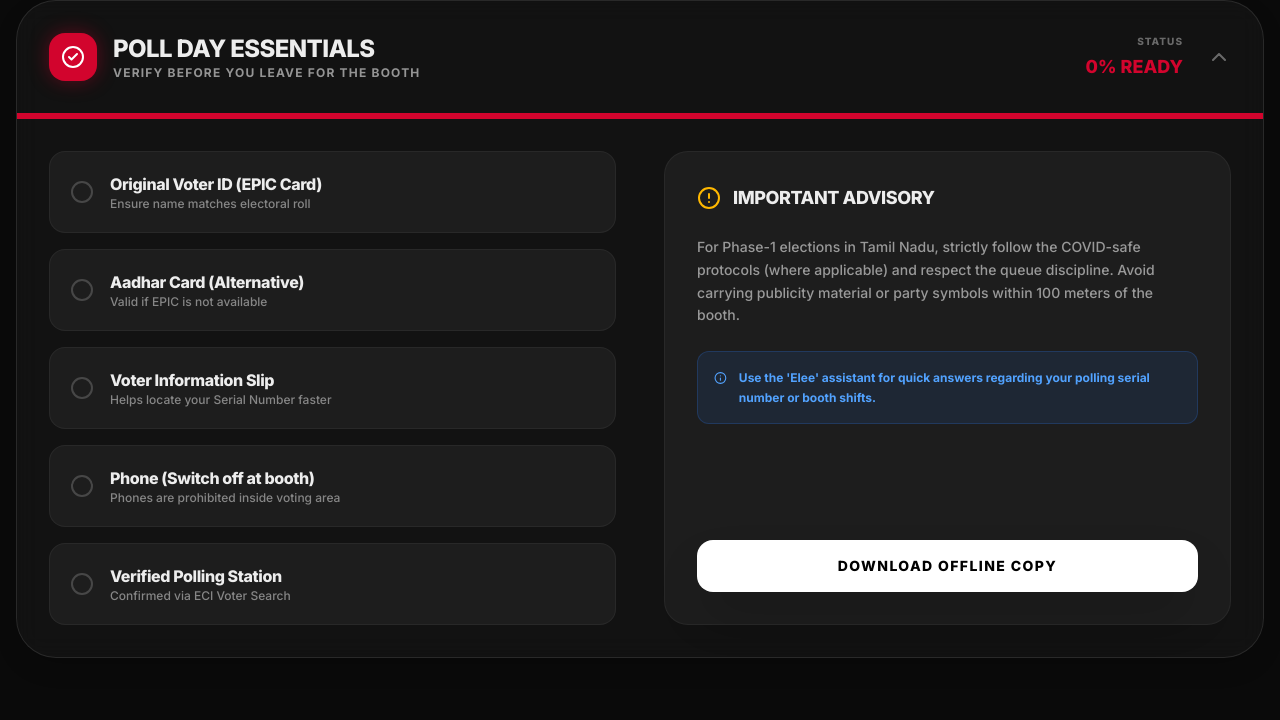
Test case: VoterChecklist › should reach 100% when all items checked
This screenshot has width=1280, height=720.
Click the button that starts with "Original Voter ID (EPIC Card)" at (216, 184), box left=49, top=151, right=616, bottom=233
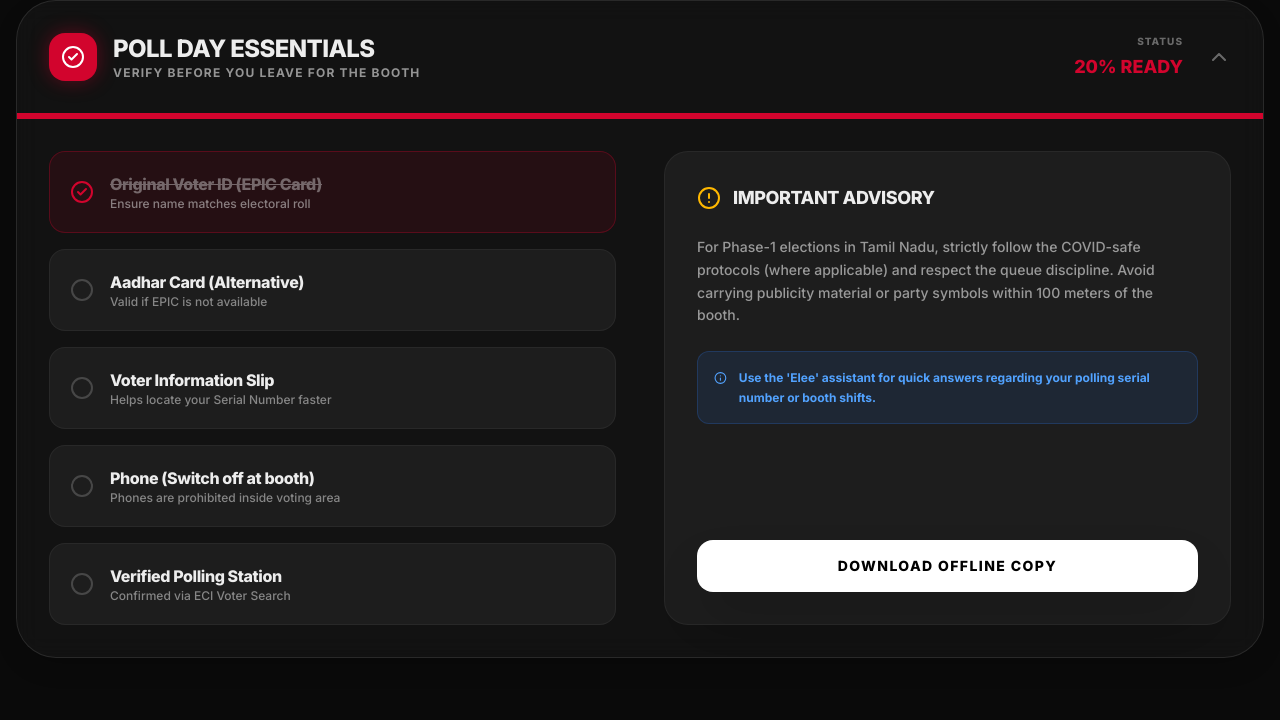
Click the button "Aadhar Card (Alternative) Valid if EPIC is not available" at (207, 282), box left=49, top=249, right=616, bottom=331
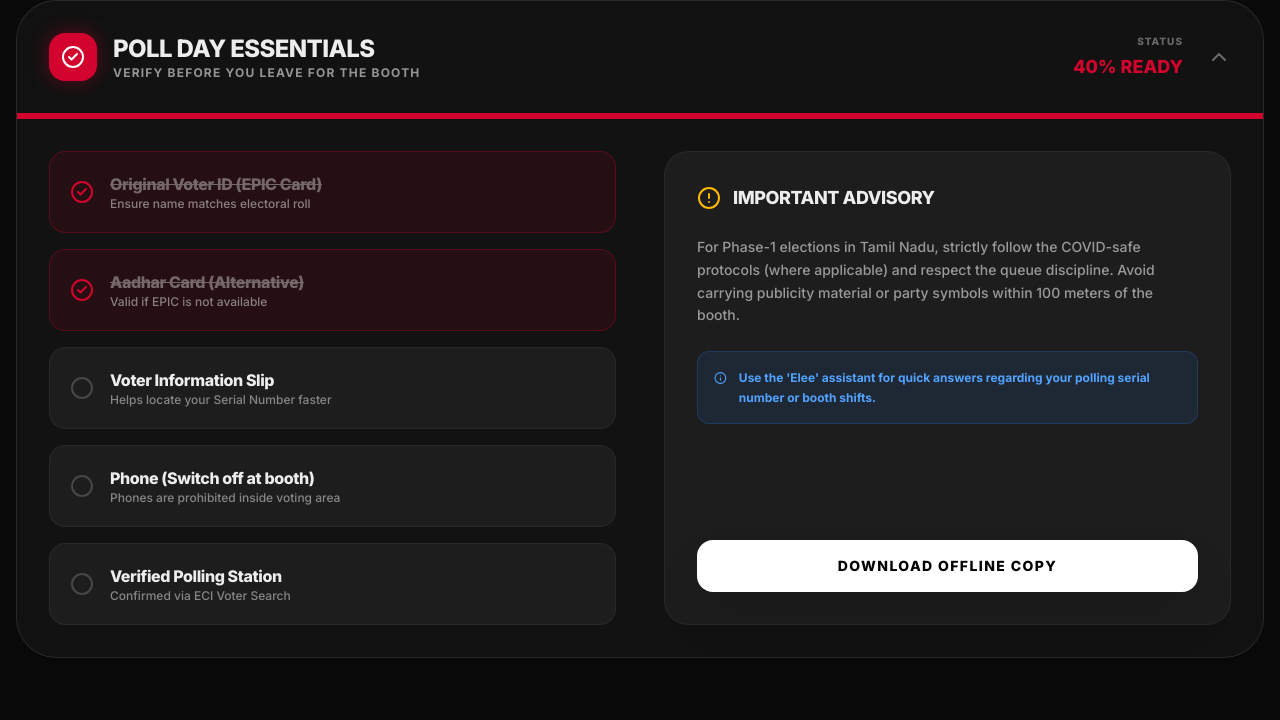
Click the button that starts with "Voter Information Slip" at (192, 380), box left=49, top=347, right=616, bottom=429
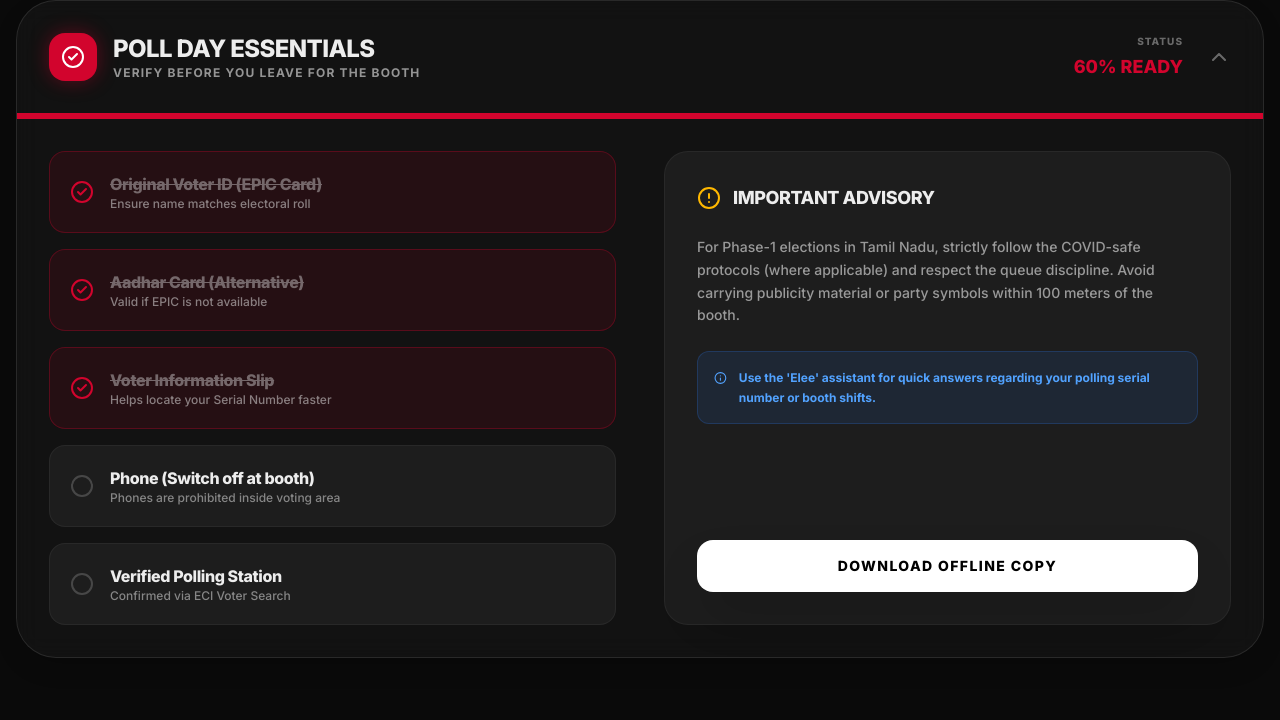
Click the button that starts with "Phone (Switch off at booth)" at (212, 478), box left=49, top=445, right=616, bottom=527
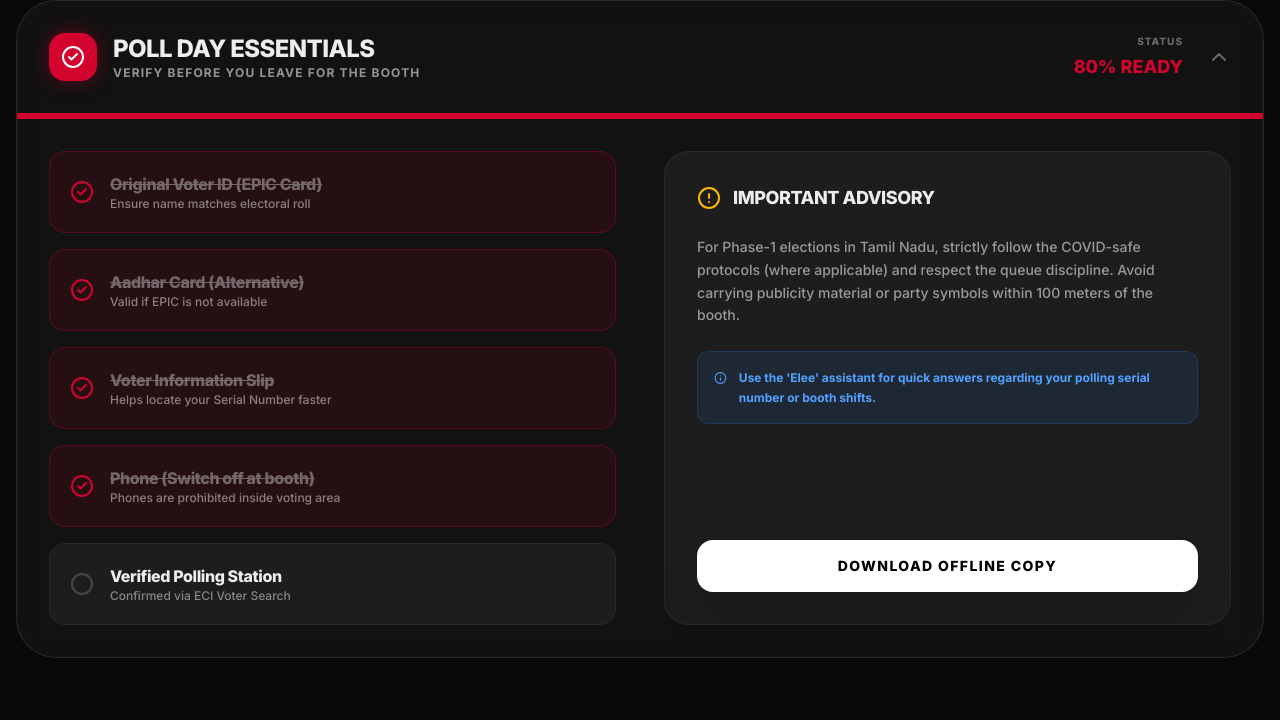
Click the button "Verified Polling Station Confirmed via ECI Voter Search" at (196, 576), box left=49, top=543, right=616, bottom=625
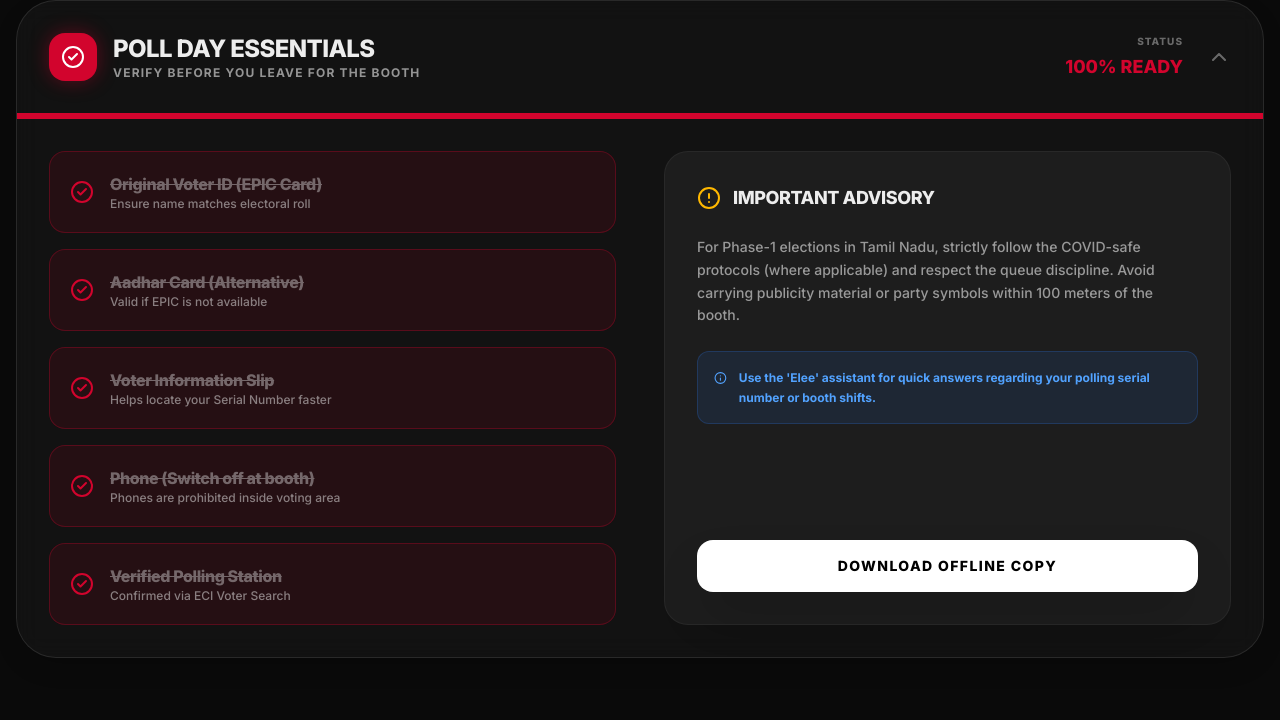
Now the text "100% READY" is shown, box left=1065, top=52, right=1183, bottom=80
